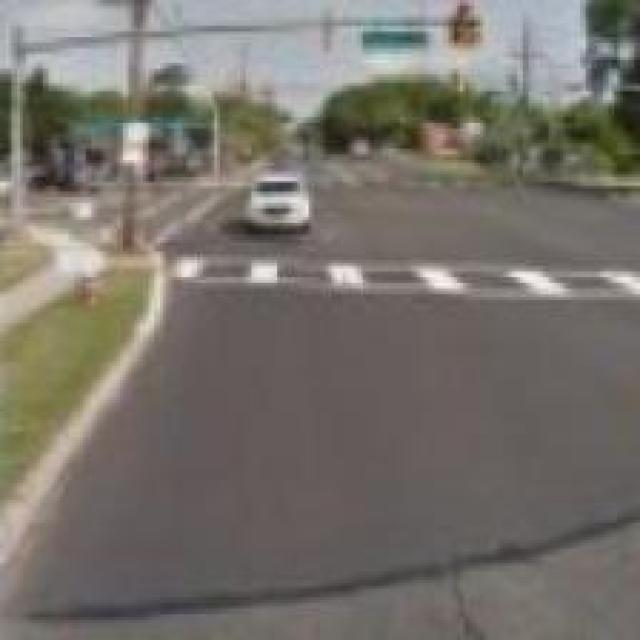walk-crossing: (188, 252, 640, 304)
